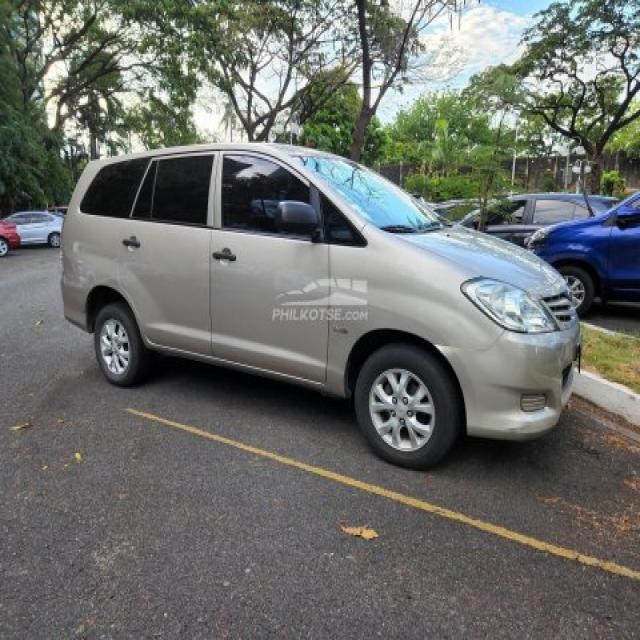light_vehicle: (57, 142, 584, 470)
